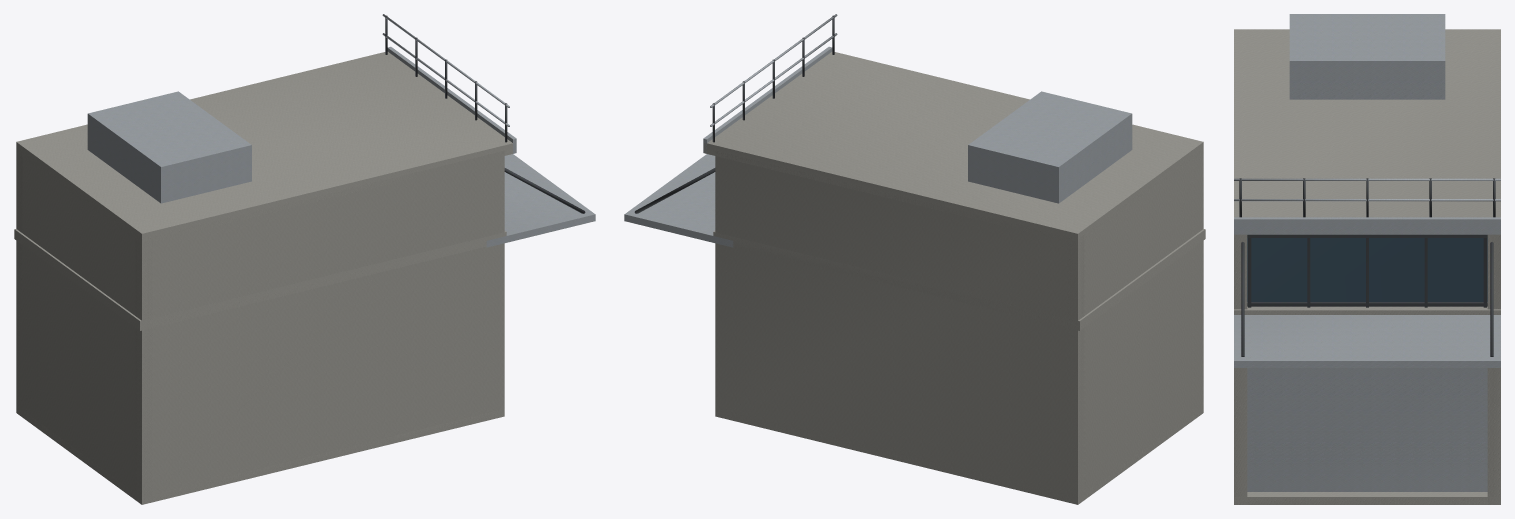
The model's file is hill-pit-garage_far.glb.
The picture shows the model from 3 angles, left to right: view 1: azimuth 30°, elevation 25°; view 2: azimuth 150°, elevation 25°; view 3: azimuth 270°, elevation 25°; orthographic projection. The views are drawn at different scales.
Visible parts, largest first — view 1: concrete, galvanised, dark-steel; view 2: concrete, galvanised, dark-steel; view 3: galvanised, concrete, glazing, dark-steel.
Boxes of the visible parts, x1,y1,x2,y2 form: concrete: [14, 52, 512, 504]; galvanised: [87, 14, 595, 247]; dark-steel: [385, 15, 585, 213]; concrete: [704, 52, 1205, 504]; galvanised: [624, 14, 1132, 247]; dark-steel: [634, 15, 834, 213]; galvanised: [1234, 14, 1500, 491]; concrete: [1234, 29, 1500, 504]; glazing: [1247, 238, 1487, 301]; dark-steel: [1239, 178, 1495, 356].
Size of the model in its own units: 12.55 by 8.15 by 6.
Materials: 6 (4 with a texture image).
